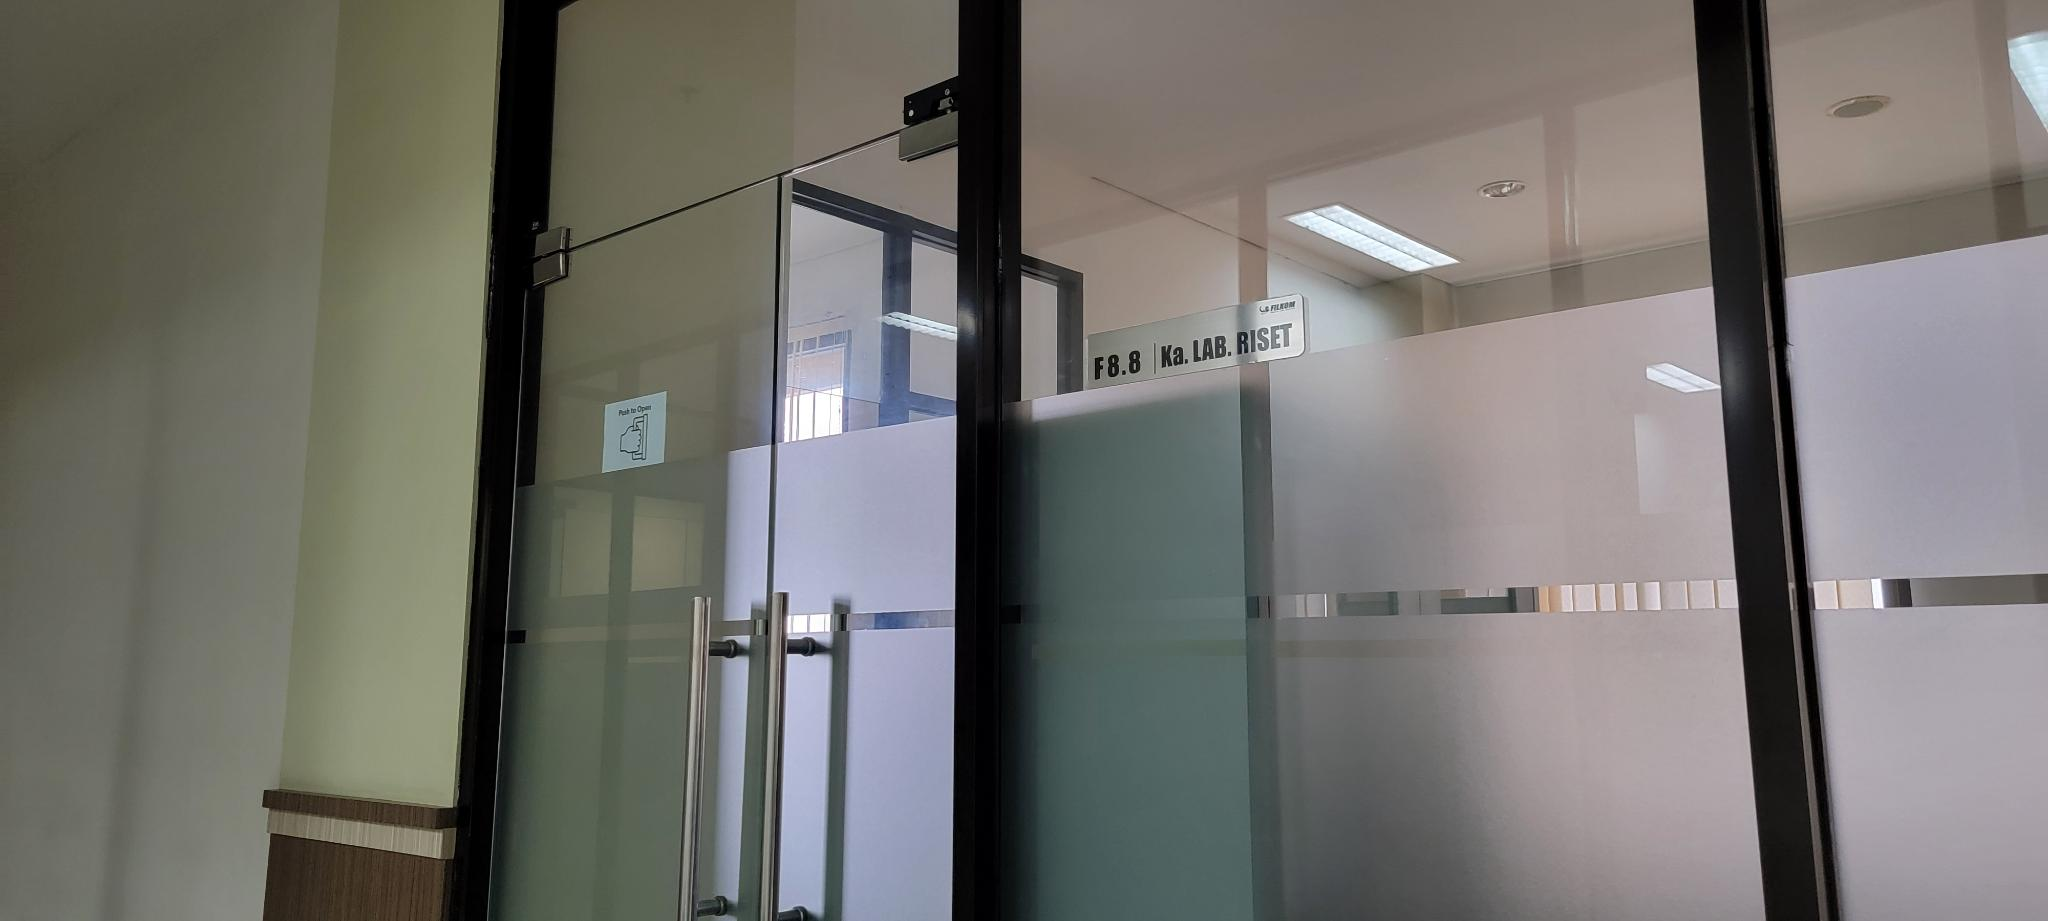plate: (1087, 293, 1305, 389)
